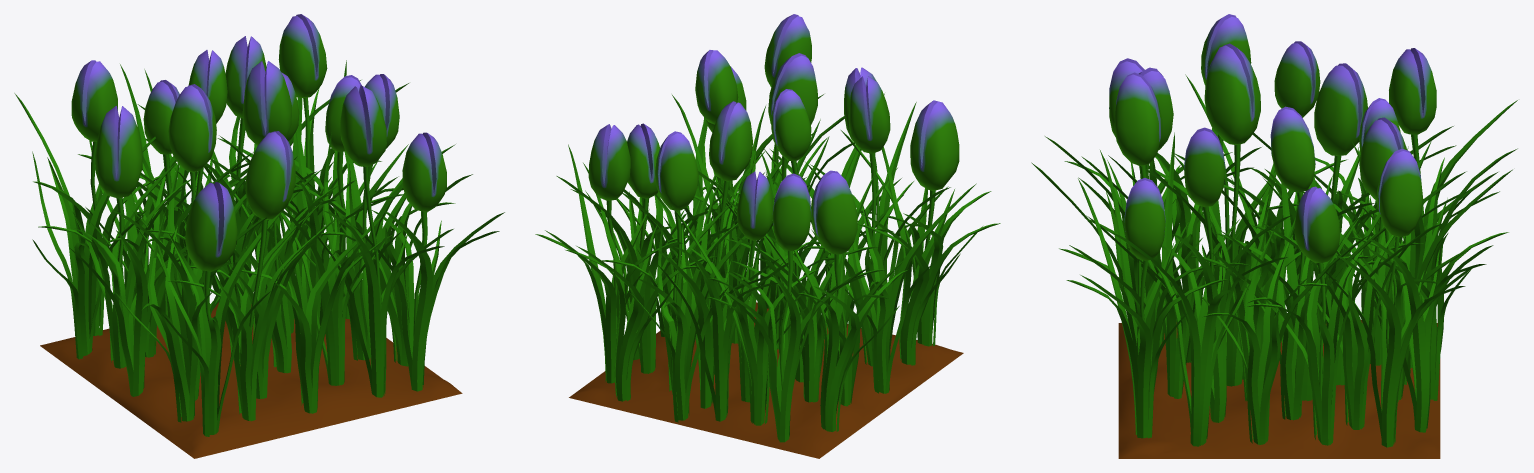
The model's file is purple-tulip-p4-leaf.glb.
3 views of the same model, side by side, from view 1: azimuth 30°, elevation 25°; view 2: azimuth 150°, elevation 25°; view 3: azimuth 270°, elevation 25° (orthographic). The views are drawn at different scales.
Parts seen in each view (by area): view 1: 4_nft_out_of _bloom; view 2: 4_nft_out_of _bloom; view 3: 4_nft_out_of _bloom.
Part boxes in pixels (left/top/right/bottom): 4_nft_out_of _bloom: left=14, top=14, right=504, bottom=458; 4_nft_out_of _bloom: left=535, top=14, right=1000, bottom=458; 4_nft_out_of _bloom: left=1031, top=14, right=1517, bottom=458.
Size of the model in its own units: 0.9577 by 0.8188 by 1.07.
Materials: 3 (1 with a texture image).
